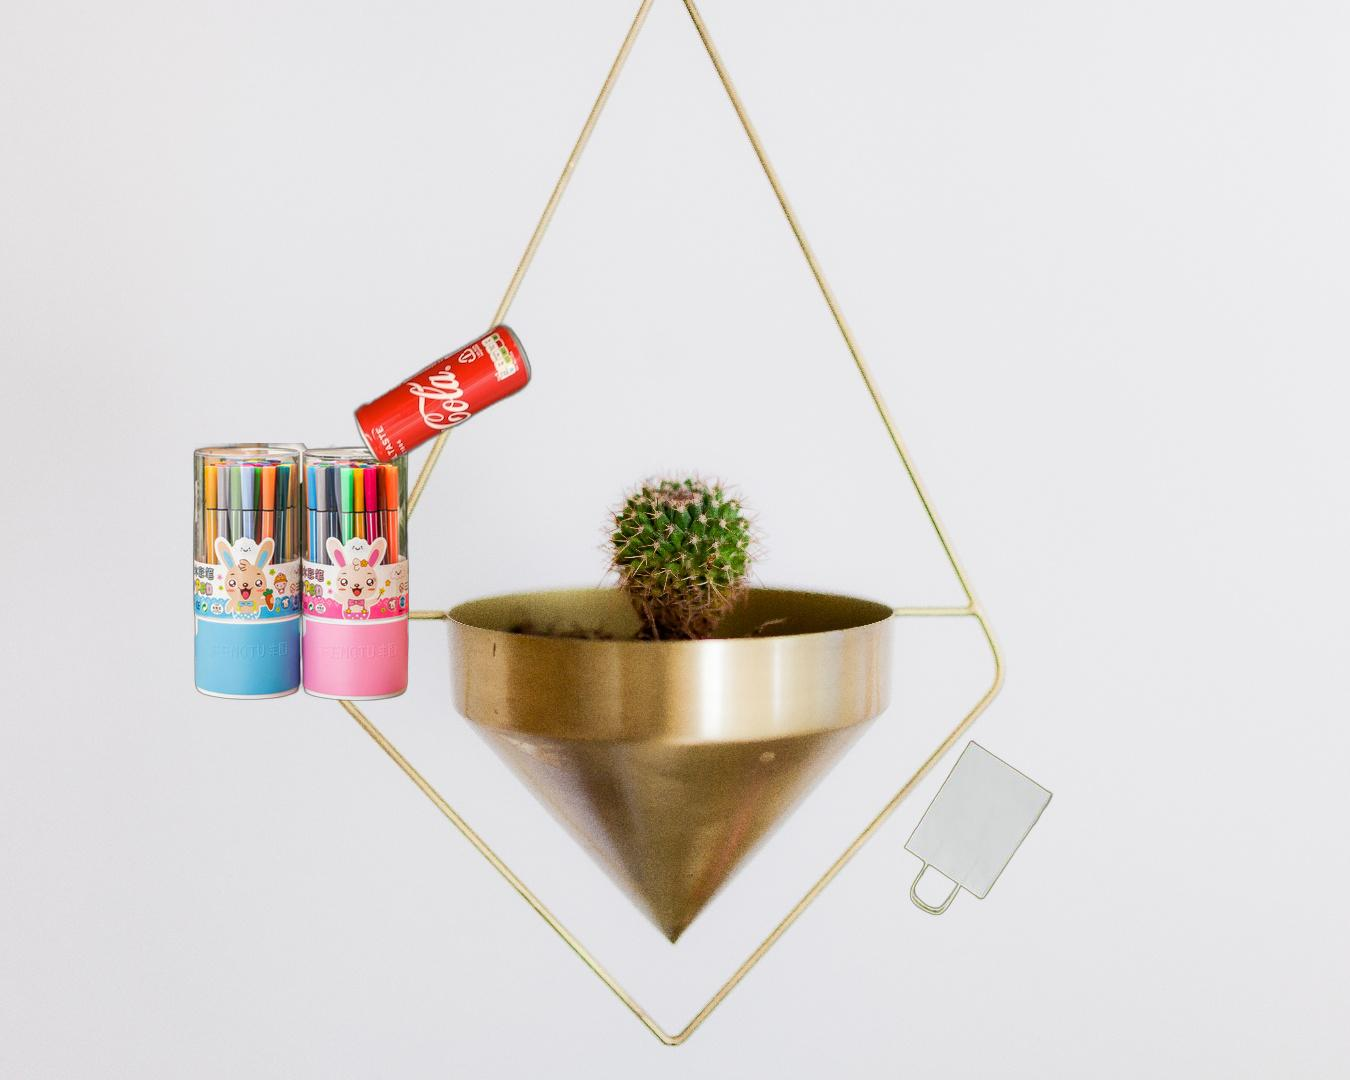metal-cans: (142, 318, 536, 847)
paper-bag: (903, 738, 1055, 918)
penholder: (191, 443, 412, 703)
